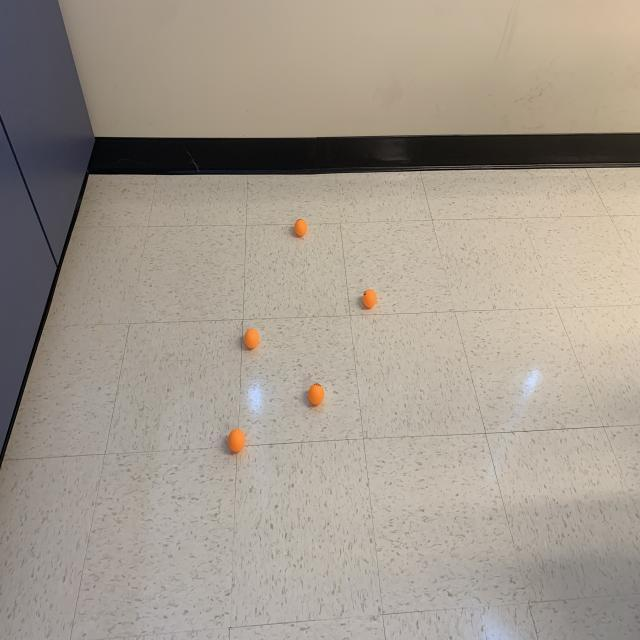ping-pong-ball: (226, 427, 246, 453), (308, 382, 326, 406), (242, 326, 260, 349), (362, 288, 377, 308), (293, 218, 308, 236)
